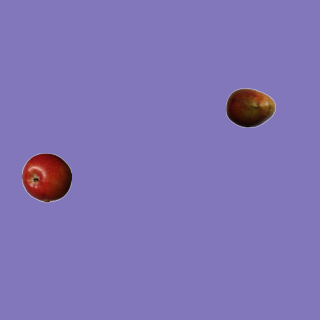Apple Braeburn: (21, 152, 71, 202)
Mango Red: (225, 82, 275, 132)
